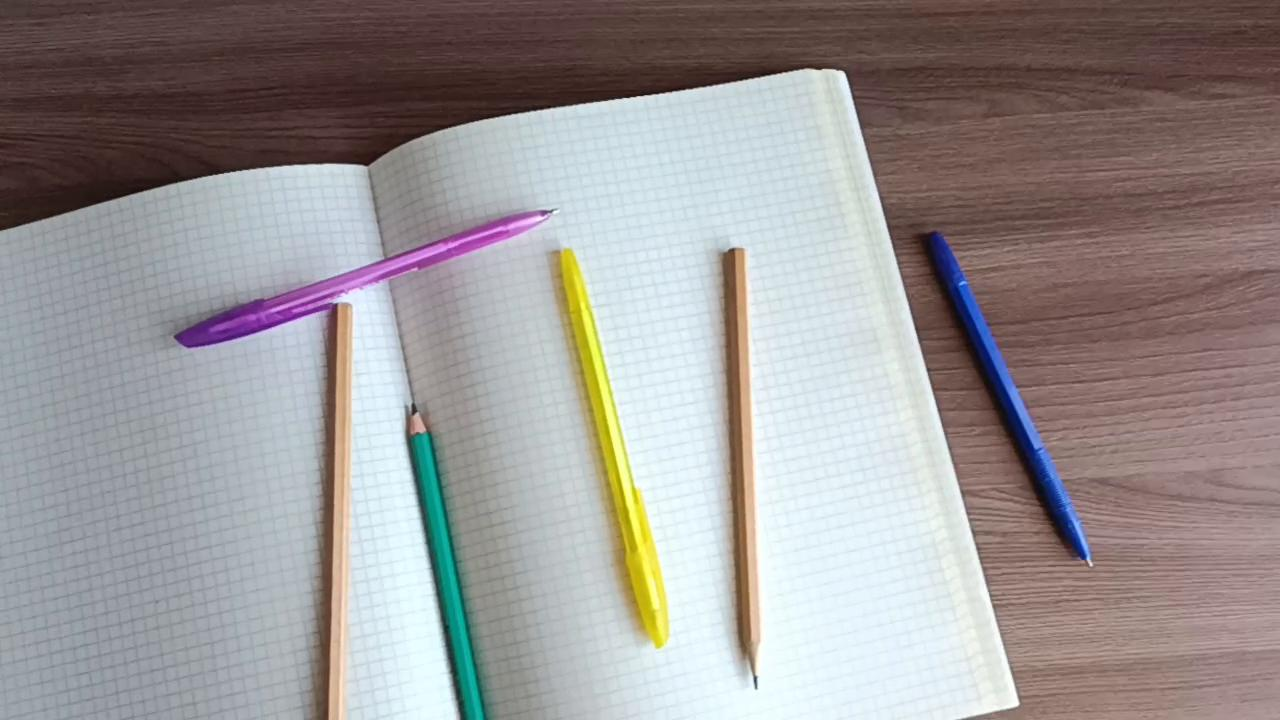pen: (127, 197, 564, 355), (920, 222, 1100, 574), (546, 245, 675, 658)
pencil: (403, 395, 493, 720), (714, 243, 776, 703), (314, 295, 353, 720)
